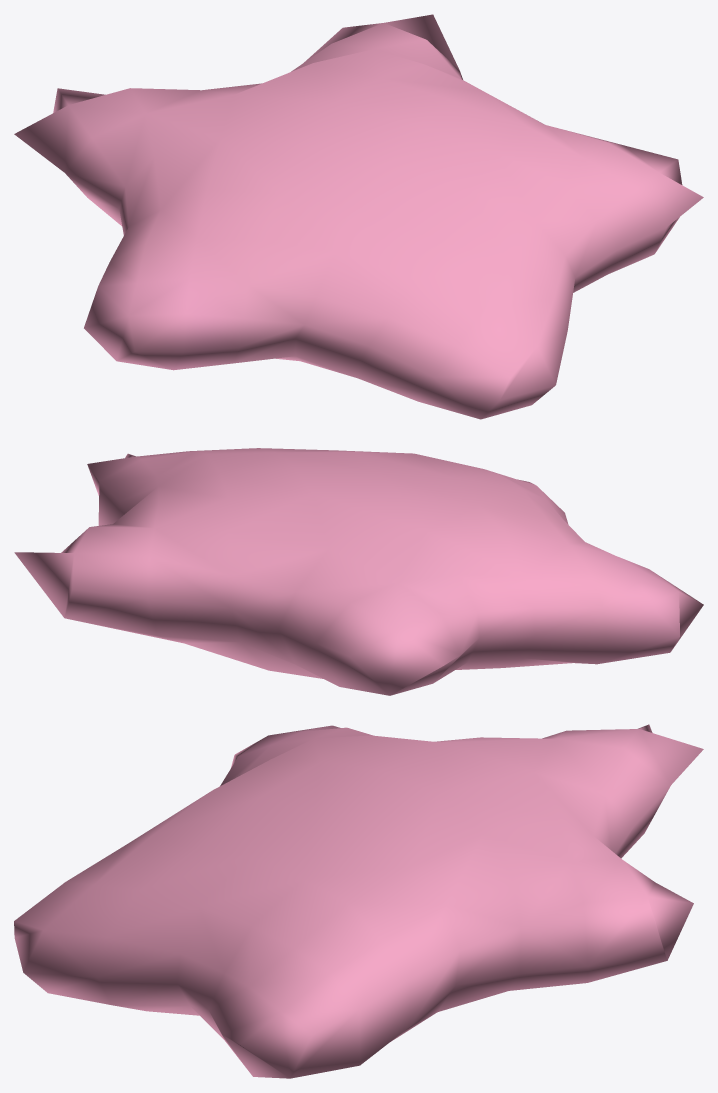
The model's file is Starfish.fbx.
3 renders of one model, top to bottom at view 1: azimuth 30°, elevation 25°; view 2: azimuth 150°, elevation 25°; view 3: azimuth 270°, elevation 25°, orthographic. The views are drawn at different scales.
Visible parts, largest first — view 1: Starfish; view 2: Starfish; view 3: Starfish.
Boxes of the visible parts, left/top/right/bottom form: Starfish: left=14, top=14, right=703, bottom=419; Starfish: left=14, top=448, right=703, bottom=695; Starfish: left=14, top=724, right=703, bottom=1078.
Size of the model in its own units: 32.25 by 9.64 by 29.82.
Materials: 1 (1 with a texture image).
